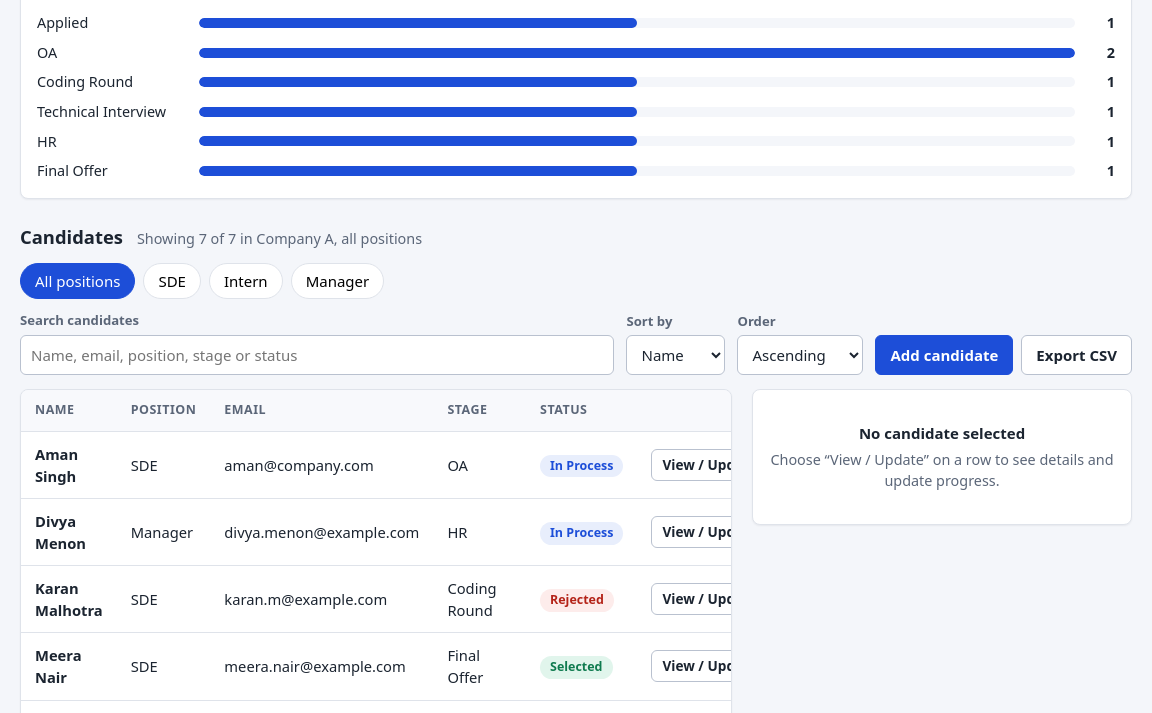
Test: App › disables export when nothing matches
(page scrolled)
Type "zzzzzz" into the search field labelled "Search candidates" at (317, 355), box [20,335,614,375]
(page scrolled)
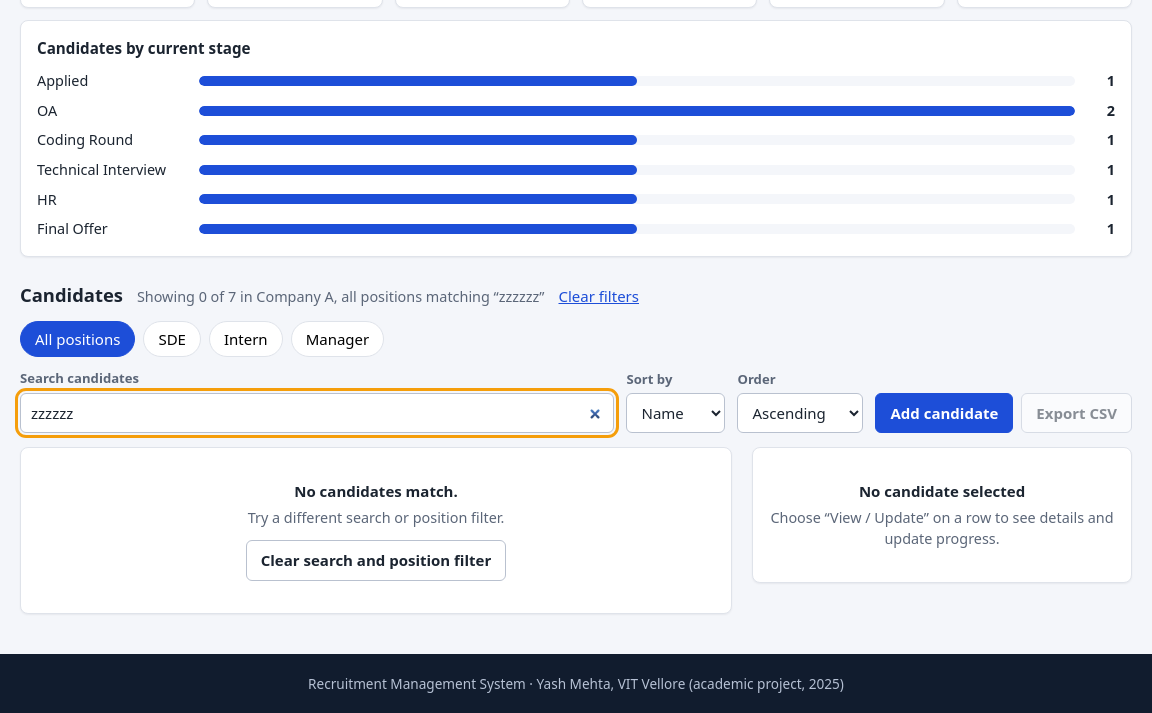
Check: the button "Export CSV" is disabled, box [1021,393,1132,433]
